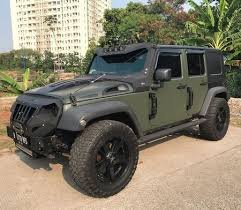mobil: (8, 40, 236, 194)
